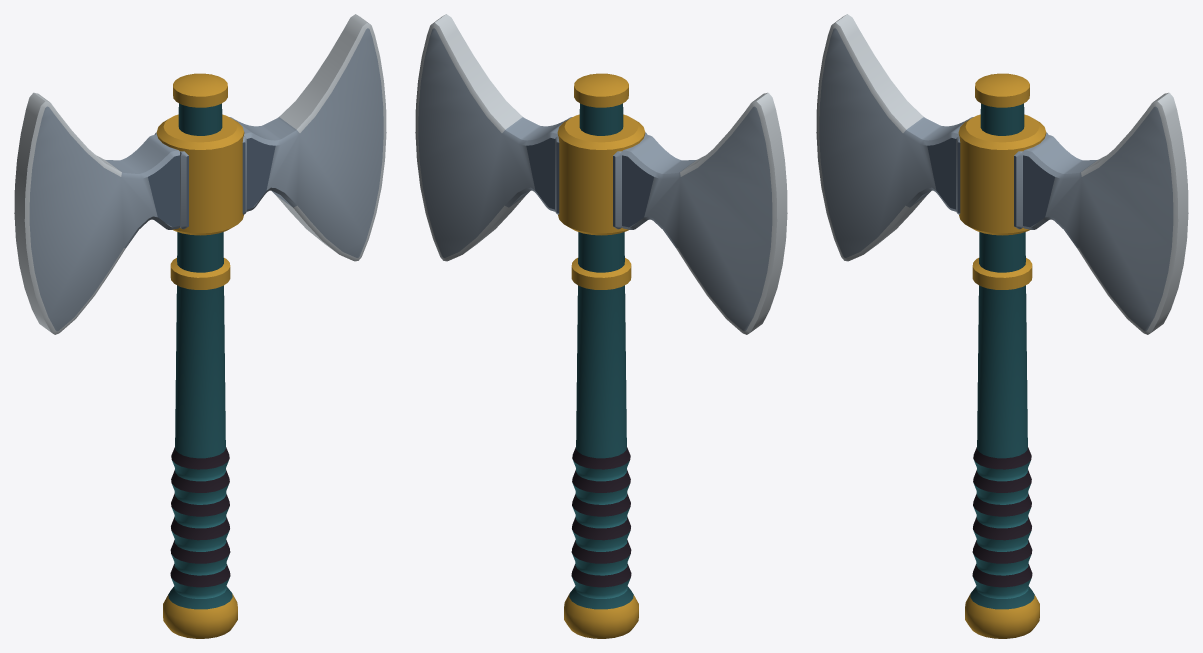
Rendered from Axe_15.glb.
3 views of the same model, side by side, from view 1: azimuth 30°, elevation 25°; view 2: azimuth 150°, elevation 25°; view 3: azimuth 330°, elevation 25° (orthographic).
Parts seen in each view (by area): view 1: Axe_15; view 2: Axe_15; view 3: Axe_15.
Boxes of the visible parts, x1,y1,x2,y2 form: Axe_15: (14, 14, 386, 638); Axe_15: (415, 14, 787, 638); Axe_15: (816, 14, 1188, 638).
Size of the model in its own units: 3.09 by 4.63 by 0.646.
